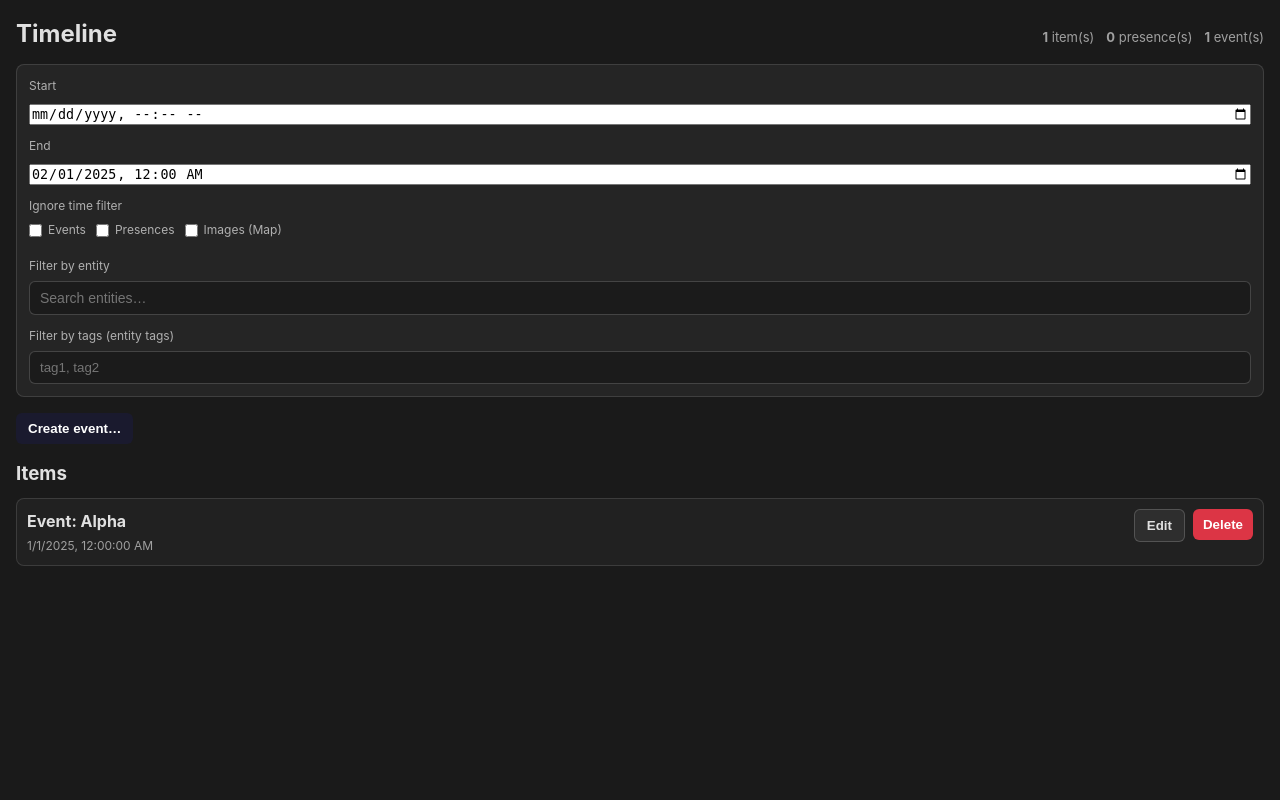
TimelineView (Timeline) › deletes an event after confirmation
Expected: the text "Event: Alpha" is shown, [27, 511, 126, 531]
Click the button "Delete" at (1223, 525), box [1193, 509, 1253, 540]
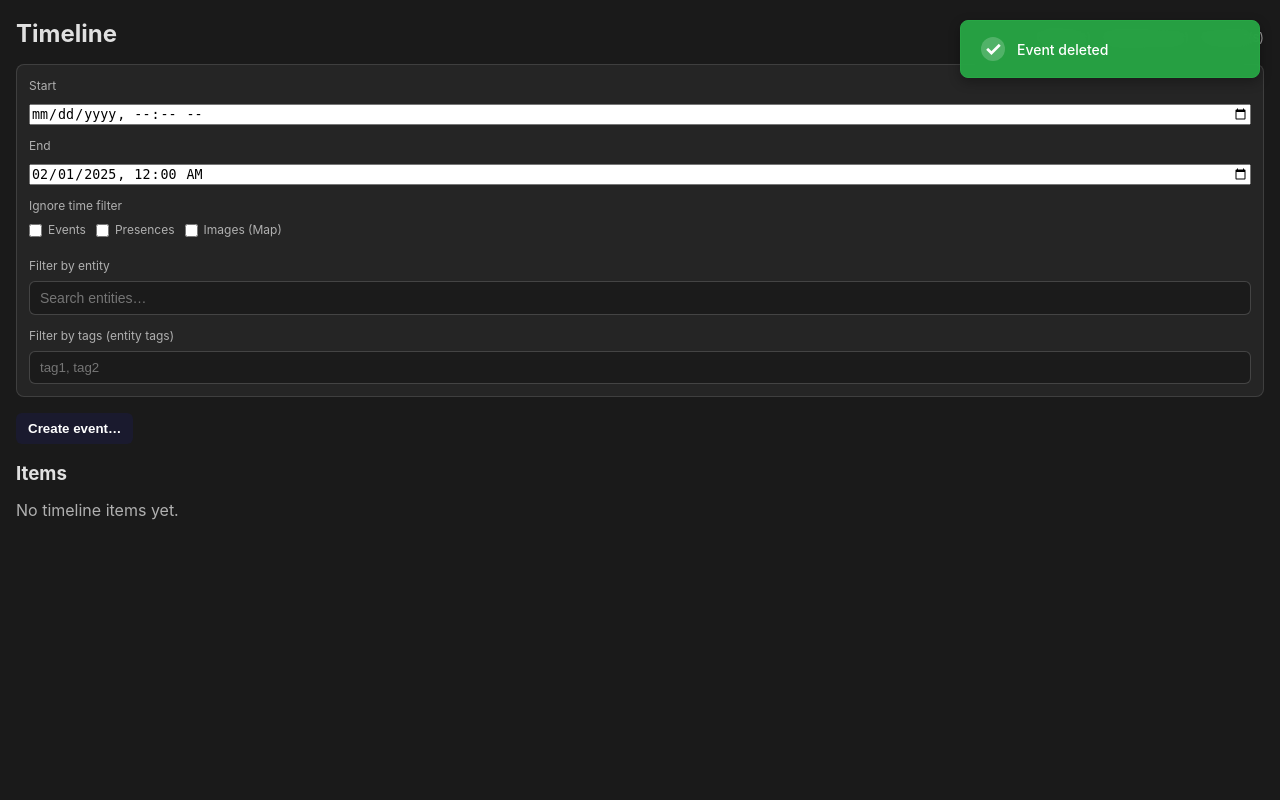
Result: the text "Event deleted" is shown at [1017, 40, 1108, 58]
